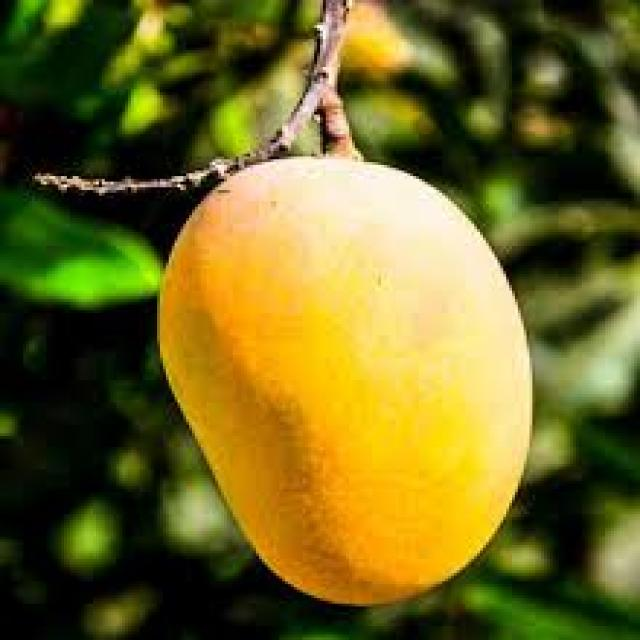mango: (158, 157, 532, 606)
